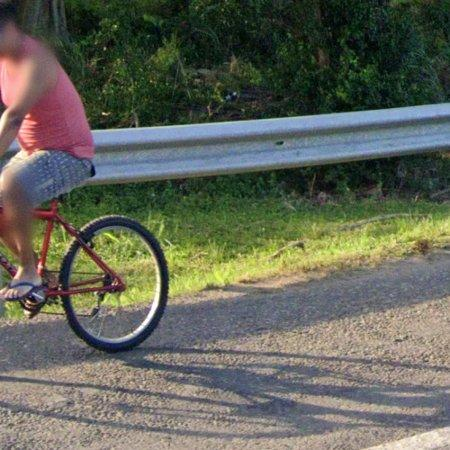bicycles: (34, 200, 169, 352)
